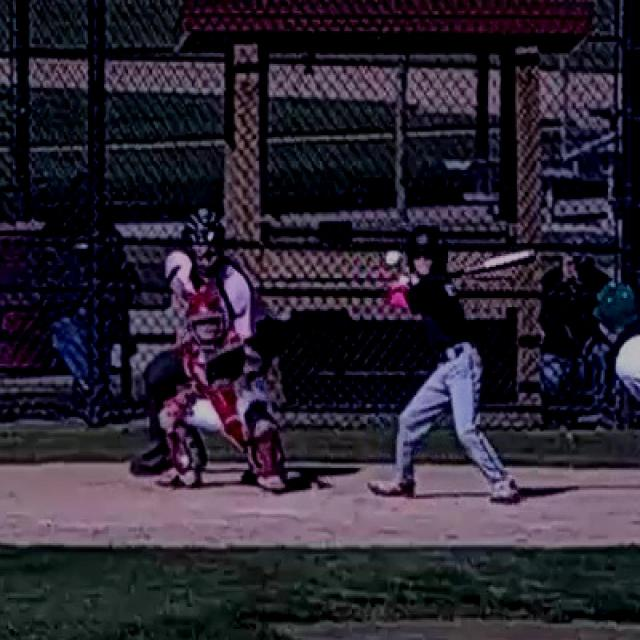baseball: (386, 252, 400, 264)
